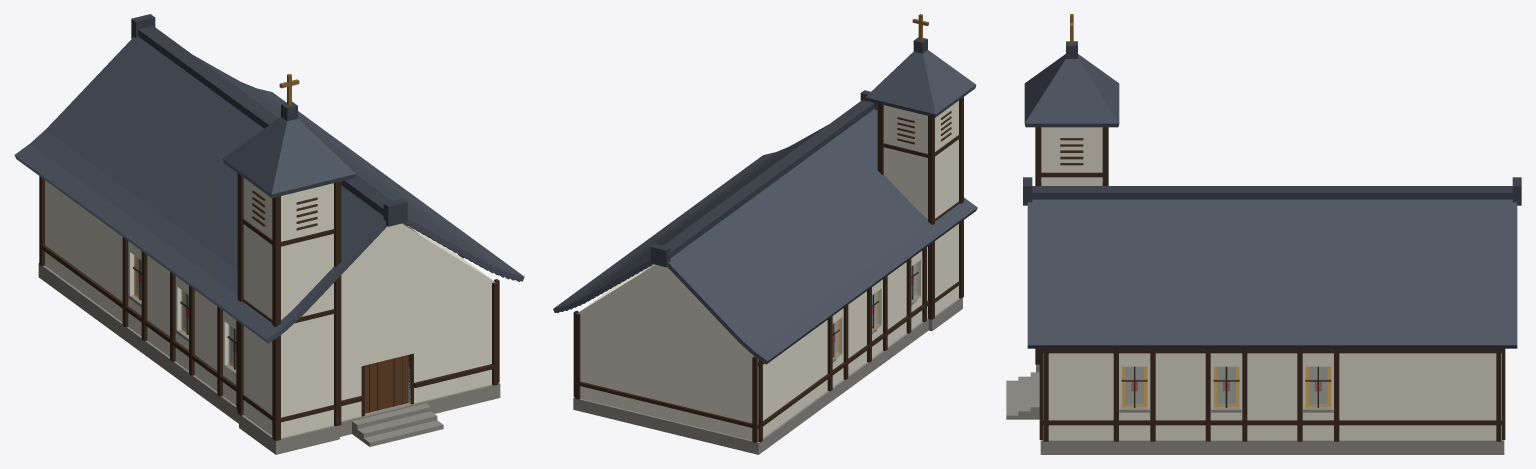
Rendered from church_shell.fbx.
The picture shows the model from 3 angles, left to right: view 1: azimuth 30°, elevation 25°; view 2: azimuth 150°, elevation 25°; view 3: azimuth 270°, elevation 25°; orthographic projection. The views are drawn at different scales.
Visible parts, largest first — view 1: Church_Roof, Church_Plaster, Church_Timber, Church_Stone, Church_Ridge, Church_Door_R, Church_Door_L, Church_Glass_Gold, Church_Glass_Blue, Church_Louvre; view 2: Church_Roof, Church_Plaster, Church_Timber, Church_Stone, Church_Ridge, Church_Glass_Gold, Church_Glass_Blue; view 3: Church_Roof, Church_Plaster, Church_Timber, Church_Stone, Church_Ridge, Church_Glass_Gold, Church_Glass_Blue.
Boxes of the visible parts, x1,y1,x2,y2 form: Church_Roof: (14,36,524,343); Church_Plaster: (45,178,495,438); Church_Timber: (39,173,499,440); Church_Stone: (38,263,500,454); Church_Ridge: (131,14,519,341); Church_Door_R: (385,355,408,408); Church_Door_L: (365,360,385,413); Church_Glass_Gold: (134,255,236,369); Church_Glass_Blue: (135,256,236,366); Church_Louvre: (252,190,317,230); Church_Roof: (553,50,977,364); Church_Plaster: (577,100,958,441); Church_Timber: (573,97,963,442); Church_Stone: (573,295,962,454); Church_Ridge: (557,37,927,340); Church_Glass_Gold: (832,262,917,356); Church_Glass_Blue: (832,263,916,354); Church_Roof: (1024,54,1517,348); Church_Plaster: (1041,127,1501,439); Church_Timber: (1035,127,1505,441); Church_Stone: (1006,364,1504,454); Church_Ridge: (1023,41,1521,205); Church_Glass_Gold: (1122,366,1330,407); Church_Glass_Blue: (1125,366,1327,404).
Size of the model in its own units: 37.79 by 50.2 by 67.4.
